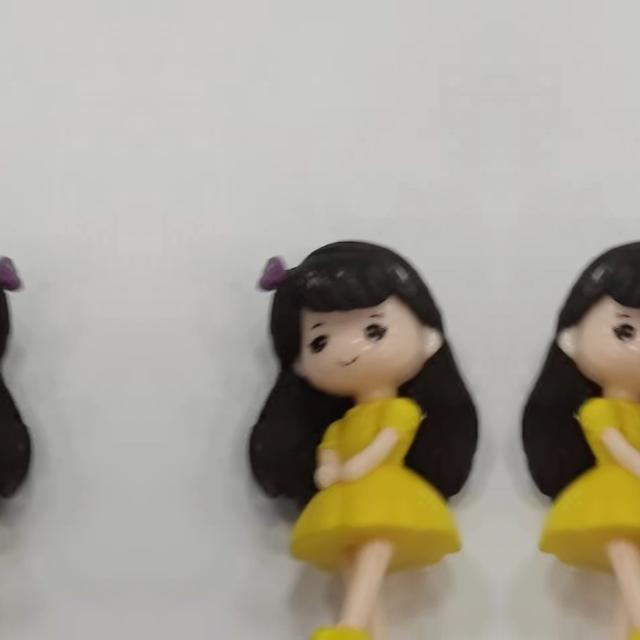woman dress: (296, 388, 468, 640), (532, 388, 640, 640)
woman head: (249, 232, 487, 422), (513, 232, 640, 422), (0, 232, 31, 422)
